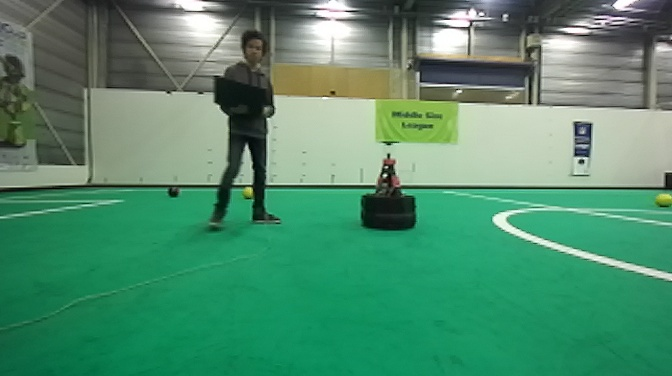b: (165, 184, 181, 201)
ball: (652, 191, 672, 208), (240, 184, 253, 200)
human: (201, 26, 285, 233)
robot: (358, 136, 419, 234)
